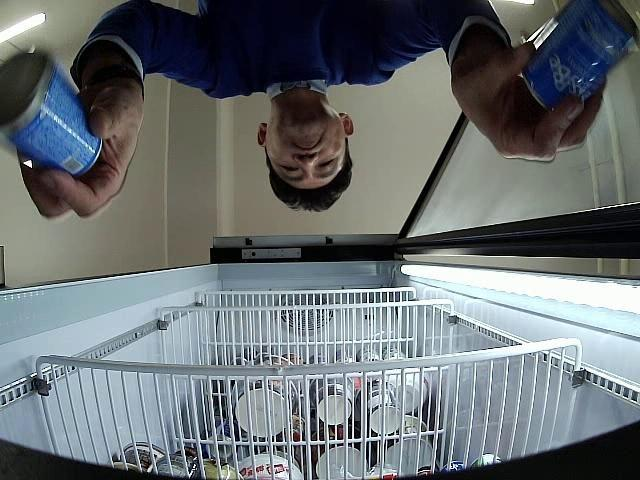15_letsbe: (0, 47, 104, 180), (523, 0, 635, 111)
